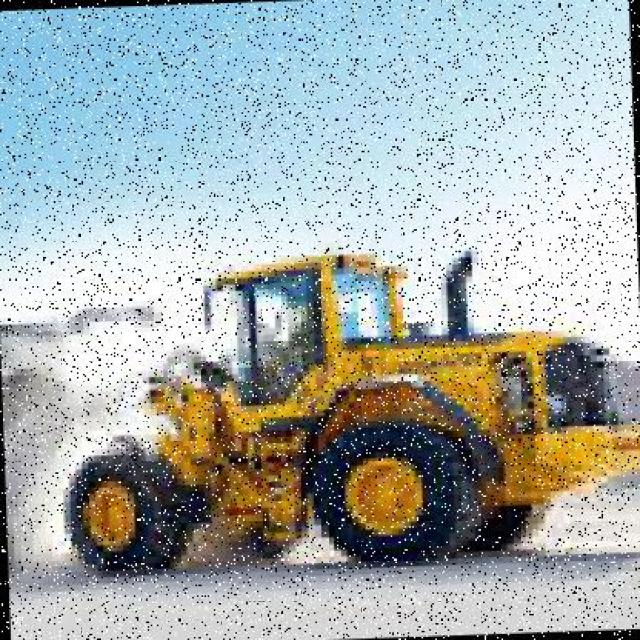buldozerpayloadergrader: (51, 215, 640, 583)
